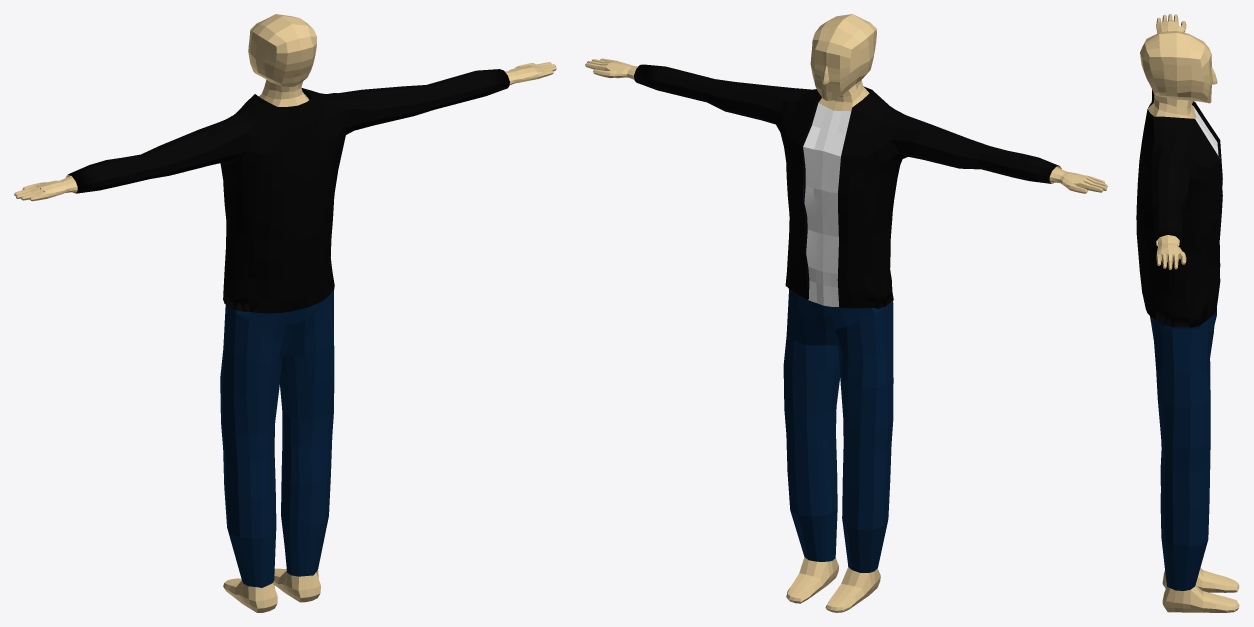
The model's file is agent.fbx.
The picture shows the model from 3 angles, left to right: view 1: azimuth 30°, elevation 25°; view 2: azimuth 150°, elevation 25°; view 3: azimuth 270°, elevation 25°; orthographic projection. The views are drawn at different scales.
Visible parts, largest first — view 1: Agent; view 2: Agent; view 3: Agent.
Boxes of the visible parts, left/top/right/bottom form: Agent: left=14, top=14, right=556, bottom=612; Agent: left=585, top=14, right=1107, bottom=612; Agent: left=1136, top=14, right=1239, bottom=612.
Bounding box in the file's own units: 460 × 479 × 78.99.
